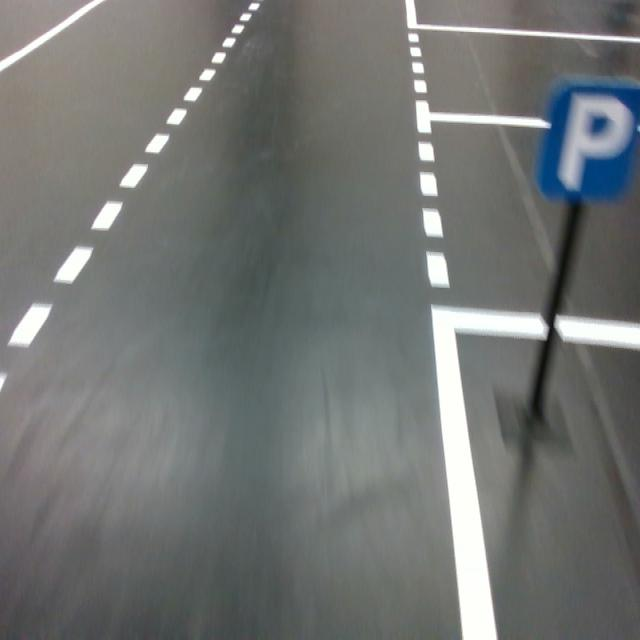parking-sign: (531, 76, 640, 207)
